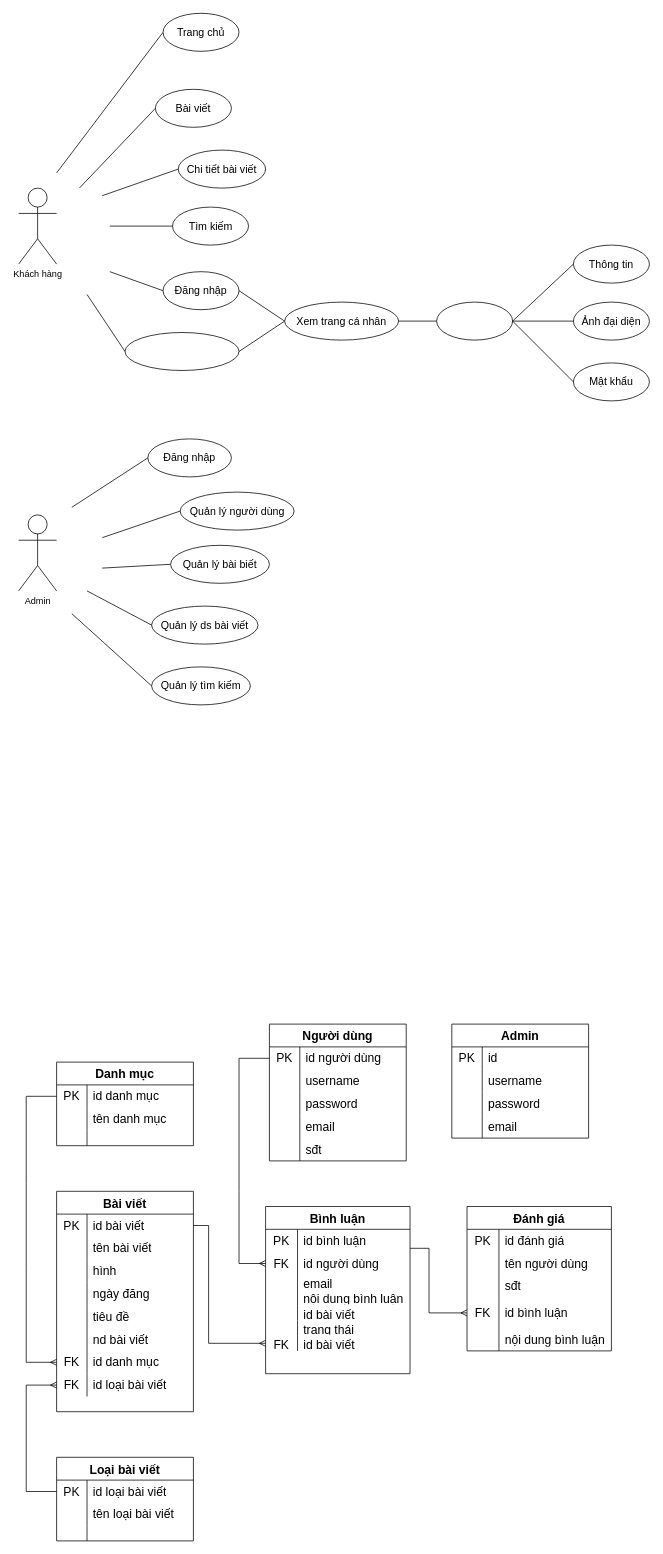
Image size: 663x1554. Some labels were removed from this diagram. Each missing label, with the centre of its shape:
Cập nhật: the point at 474,320
Đăng ký thành viên: the point at 181,351
